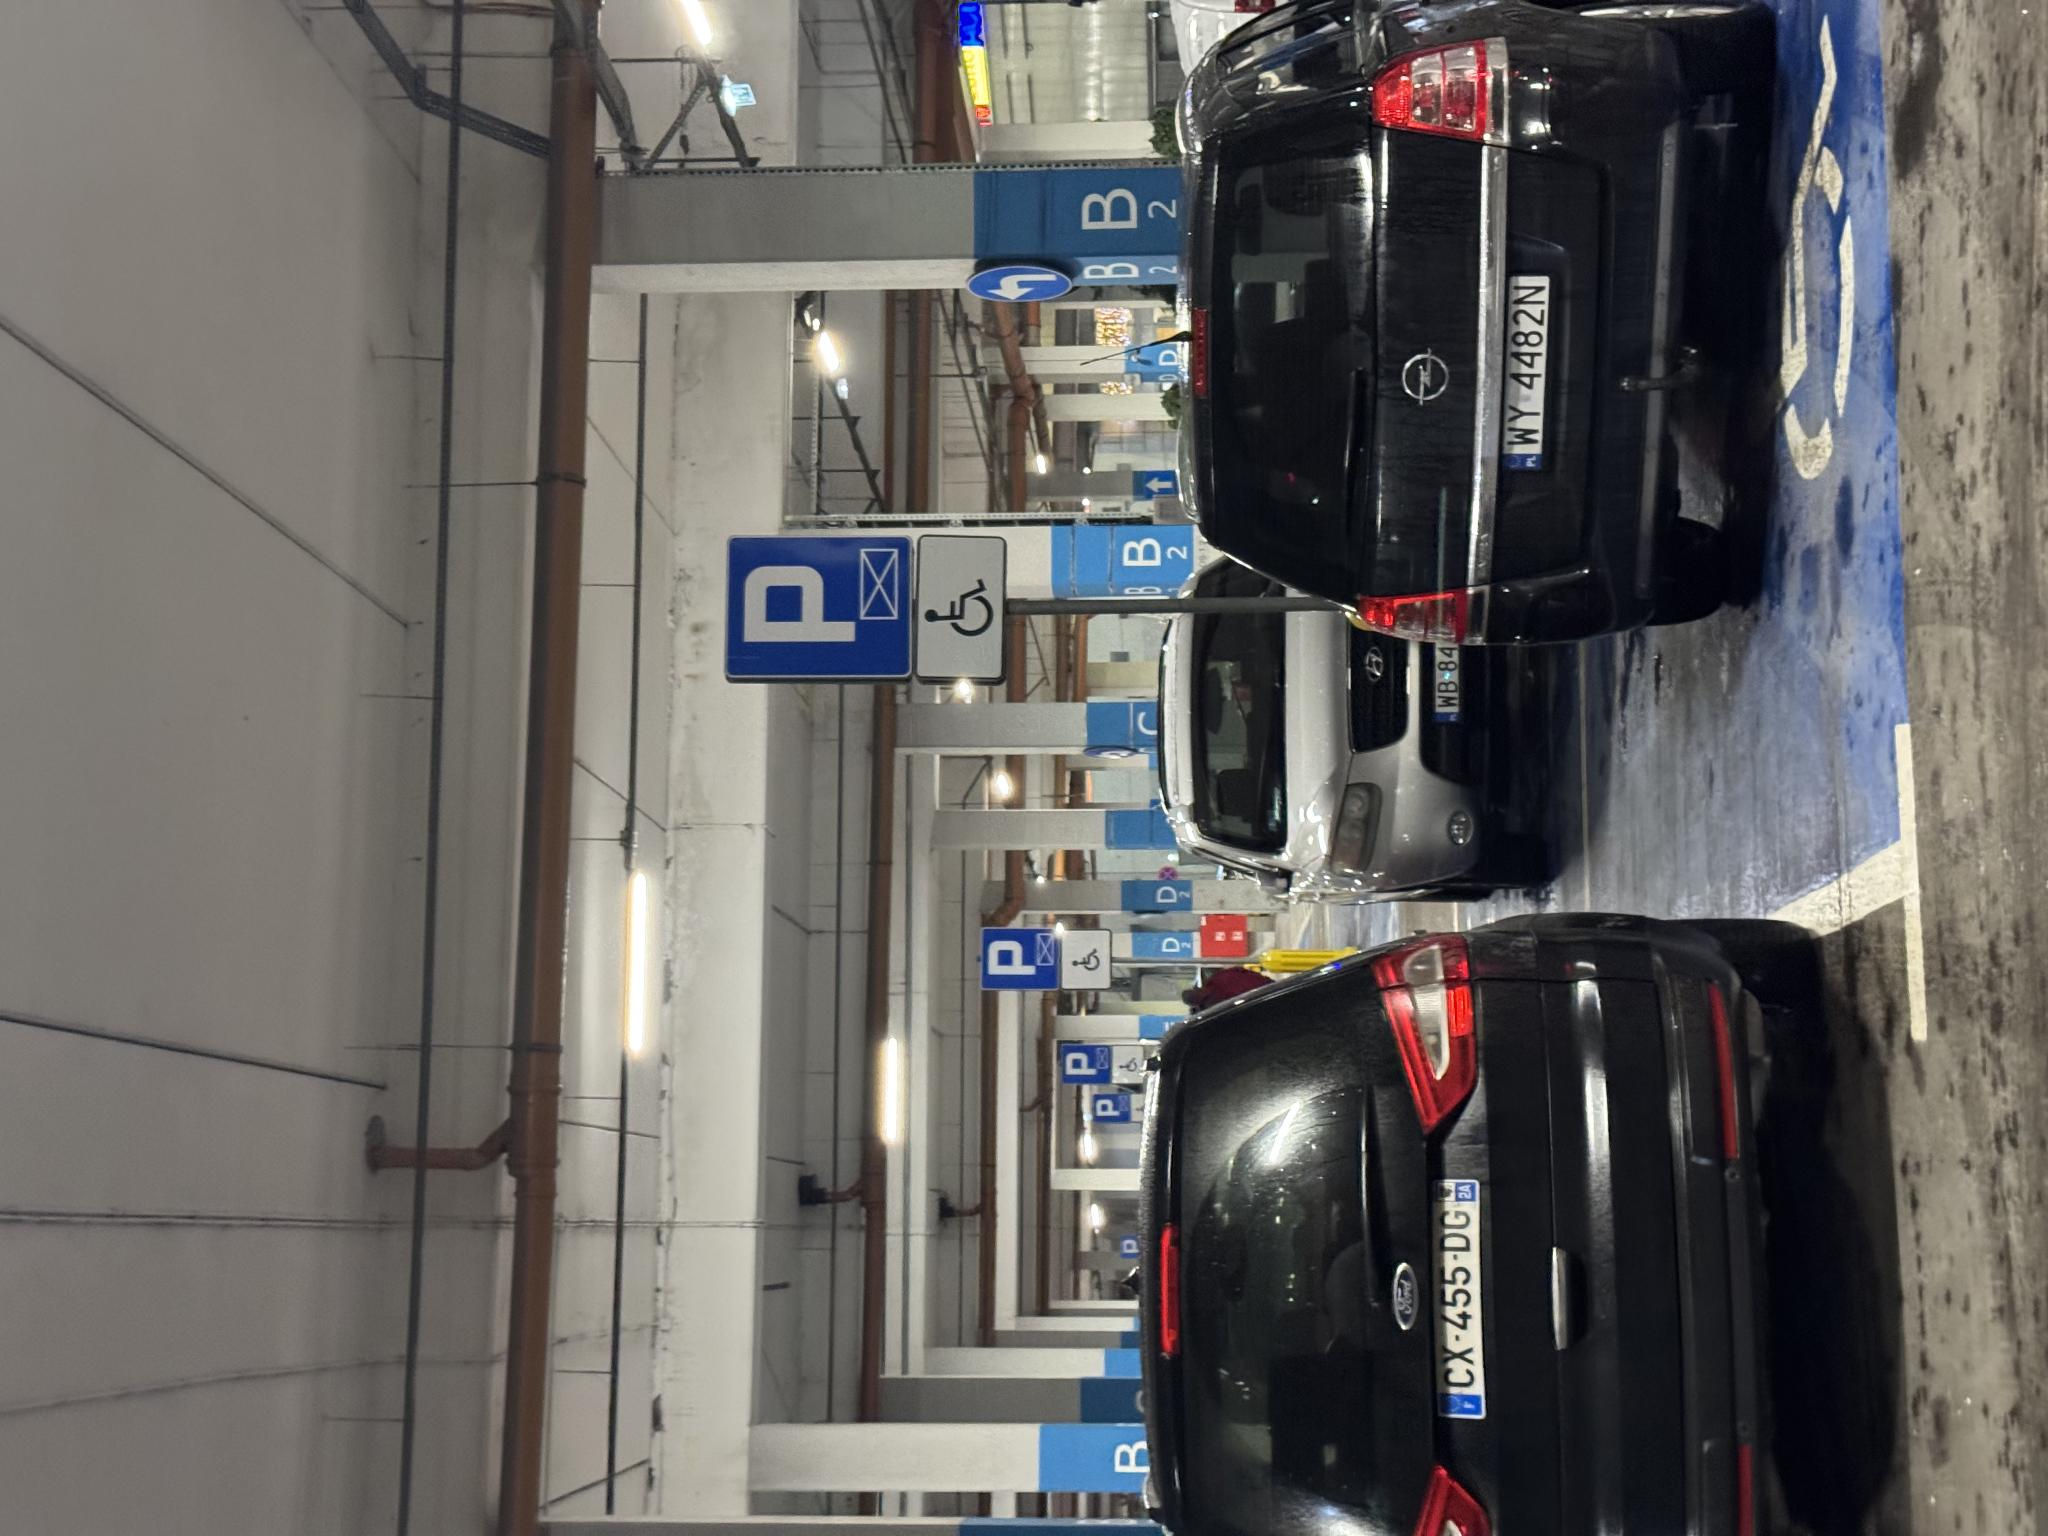information: (850, 721, 1006, 913), (545, 979, 611, 1060), (452, 1062, 492, 1110), (411, 1092, 442, 1129), (1035, 1142, 1066, 1175), (277, 1120, 300, 1137)
mandatory: (1230, 965, 1276, 1075), (776, 1084, 790, 1136)
other: (851, 912, 1000, 1010), (547, 1060, 608, 1112), (452, 1110, 492, 1146), (413, 1131, 445, 1146)
prohibitory: (655, 1155, 671, 1178)
